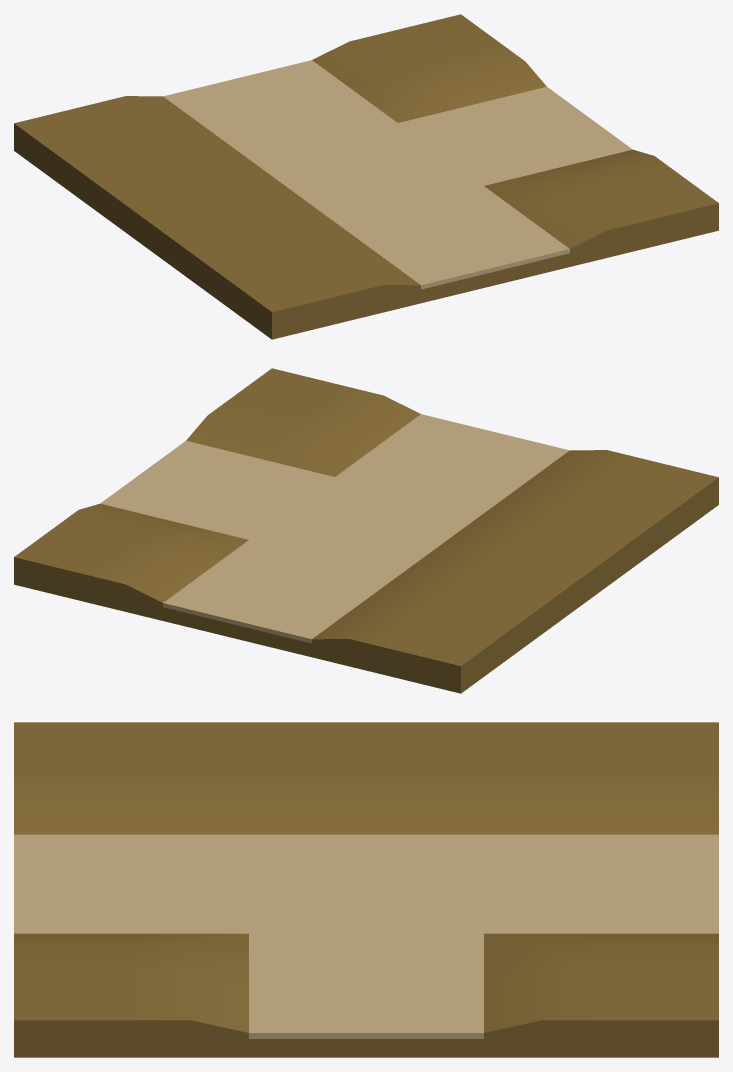
The model's file is oldRoad_T-road.fbx.
The picture shows the model from 3 angles, top to bottom: view 1: azimuth 30°, elevation 25°; view 2: azimuth 150°, elevation 25°; view 3: azimuth 270°, elevation 25°; orthographic projection. The views are drawn at different scales.
Visible parts, largest first — view 1: yuka2, miti2, miti1; view 2: yuka2, miti2, miti1; view 3: yuka2, miti2, miti1.
Part boxes in pixels (left/top/right/bottom): yuka2: left=14, top=14, right=718, bottom=339; miti2: left=163, top=60, right=569, bottom=289; miti1: left=398, top=87, right=632, bottom=185; yuka2: left=14, top=368, right=718, bottom=693; miti2: left=163, top=414, right=569, bottom=643; miti1: left=100, top=441, right=334, bottom=539; yuka2: left=14, top=722, right=718, bottom=1057; miti2: left=14, top=834, right=718, bottom=933; miti1: left=249, top=933, right=483, bottom=1038.
Size of the model in its own units: 1700 by 100 by 1700.
